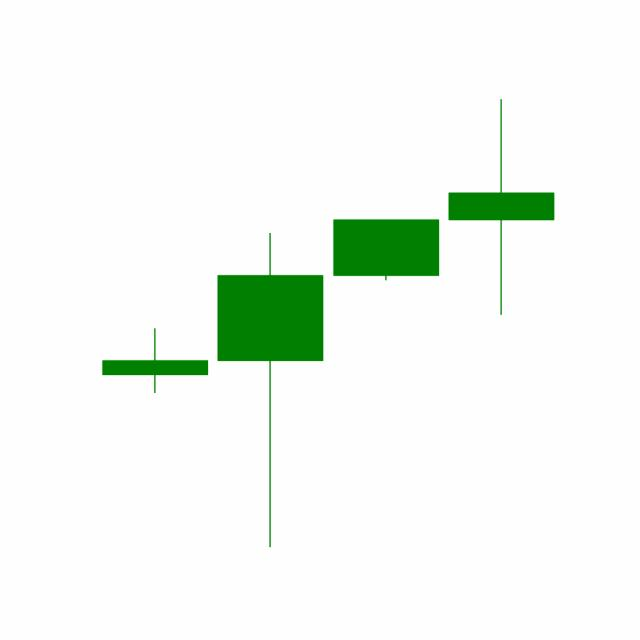Marubozu: (328, 218, 444, 281)
